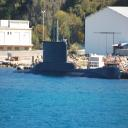submarine: (21, 37, 122, 80)
